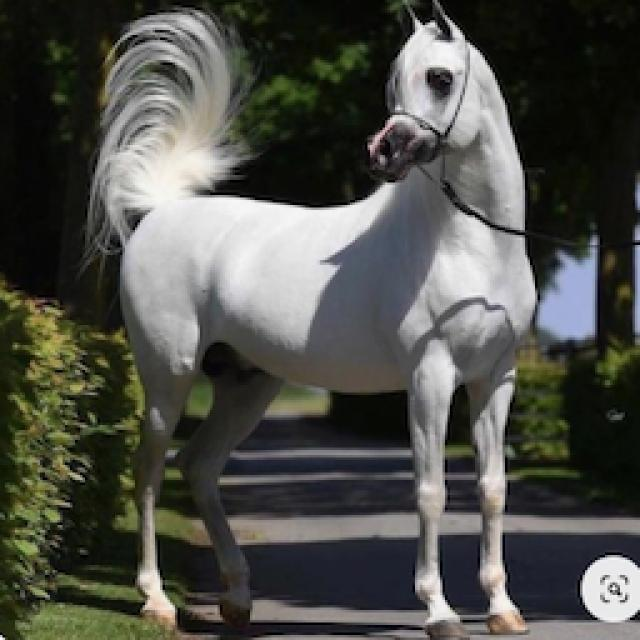Horse: (75, 0, 550, 638)
